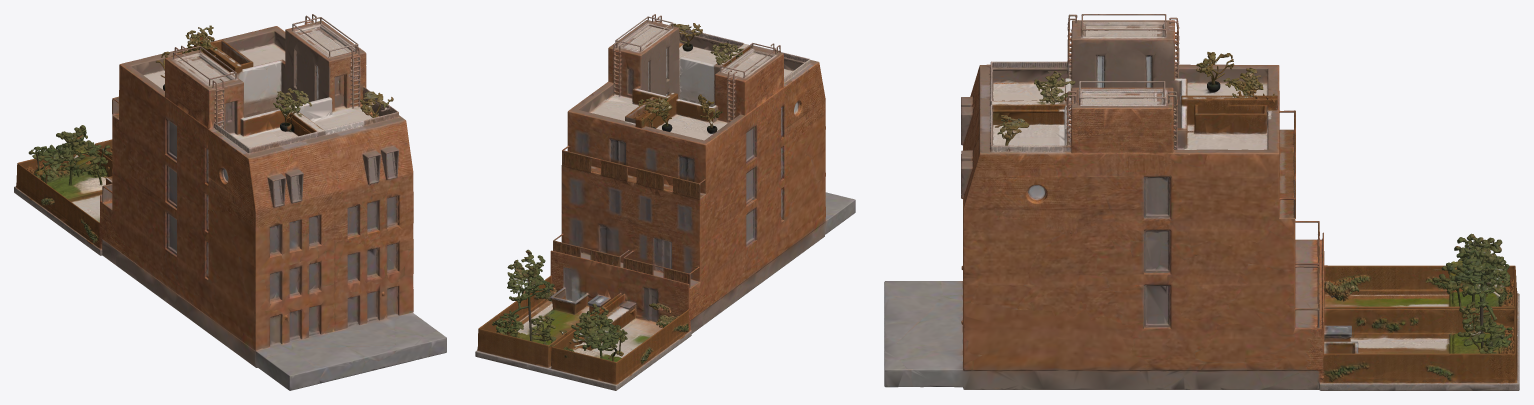
File: waverly.glb
3 renders of one model, left to right at view 1: azimuth 30°, elevation 25°; view 2: azimuth 150°, elevation 25°; view 3: azimuth 270°, elevation 25°, orthographic. The views are drawn at different scales.
Size of the model in its own units: 0.6679 by 0.9597 by 1.9.
Materials: 1 (1 with a texture image).
